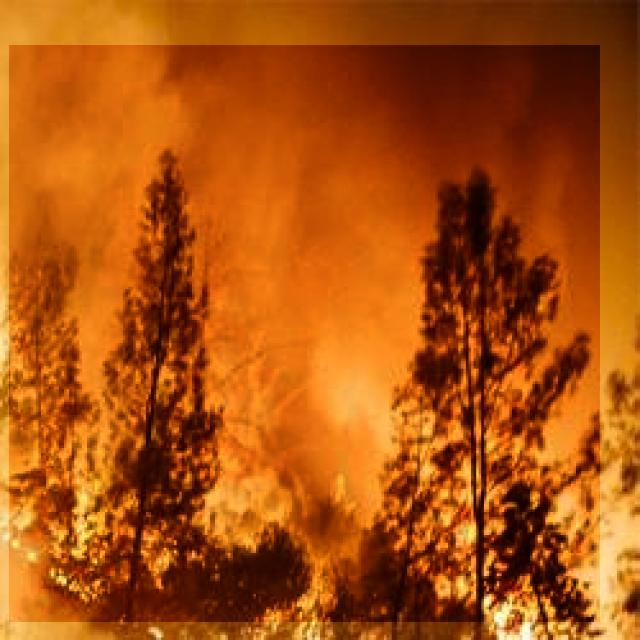Smoke: (9, 45, 600, 622)
